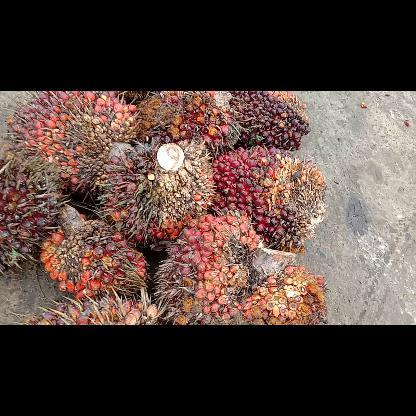TBS masak: (157, 214, 327, 324), (6, 91, 136, 195), (98, 138, 212, 244), (212, 148, 326, 254), (38, 201, 152, 299), (0, 151, 60, 271), (134, 90, 236, 152), (227, 92, 311, 152), (23, 296, 158, 323)
